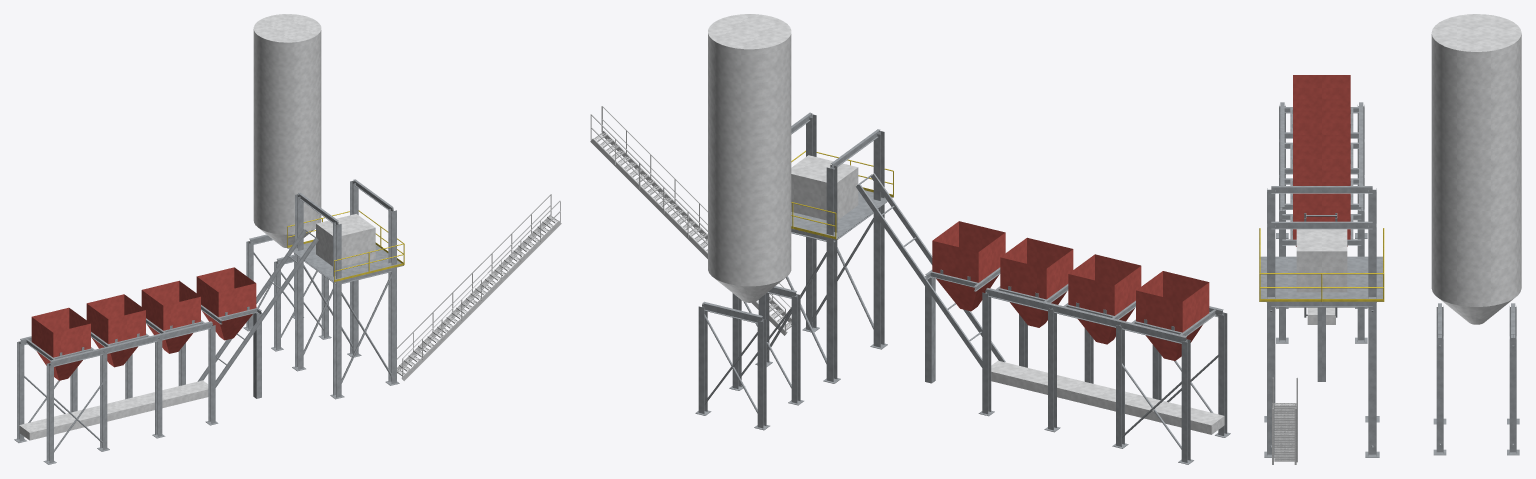
Rendered from concrete-batching-plant-structures.glb.
3 renders of one model, left to right at view 1: azimuth 30°, elevation 25°; view 2: azimuth 150°, elevation 25°; view 3: azimuth 270°, elevation 25°, orthographic. The views are drawn at different scales.
Parts seen in each view (by area): view 1: Mixer,Silo&Belt(context), AggregateBins, MixerTower&Platform, BinSupportFrame, AccessStair, ConveyorGallery, SiloSupportFrame, Handrails; view 2: Mixer,Silo&Belt(context), AggregateBins, BinSupportFrame, MixerTower&Platform, SiloSupportFrame, AccessStair, ConveyorGallery; view 3: Mixer,Silo&Belt(context), MixerTower&Platform, AggregateBins, BinSupportFrame, SiloSupportFrame, AccessStair, Handrails, ConveyorGallery.
Part boxes in pixels (<box>): Mixer,Silo&Belt(context): <box>19,14,375,440</box>; AggregateBins: <box>31,267,256,380</box>; MixerTower&Platform: <box>287,179,403,399</box>; BinSupportFrame: <box>14,305,261,464</box>; AccessStair: <box>397,194,561,380</box>; ConveyorGallery: <box>197,229,318,398</box>; SiloSupportFrame: <box>243,234,331,351</box>; Handrails: <box>287,210,404,282</box>; Mixer,Silo&Belt(context): <box>708,14,1224,434</box>; AggregateBins: <box>932,221,1209,360</box>; BinSupportFrame: <box>925,267,1230,464</box>; MixerTower&Platform: <box>755,112,893,383</box>; SiloSupportFrame: <box>695,286,803,430</box>; AccessStair: <box>590,106,791,335</box>; ConveyorGallery: <box>856,173,1005,383</box>; Mixer,Silo&Belt(context): <box>1296,14,1521,324</box>; MixerTower&Platform: <box>1260,186,1382,457</box>; AggregateBins: <box>1293,75,1350,246</box>; BinSupportFrame: <box>1276,102,1367,343</box>; SiloSupportFrame: <box>1433,303,1519,455</box>; AccessStair: <box>1272,377,1297,464</box>; Handrails: <box>1259,228,1384,301</box>; ConveyorGallery: <box>1304,213,1337,381</box>.
Size of the model in its own units: 28.24 by 15.93 by 9.32.
5 materials, 5 textured.
